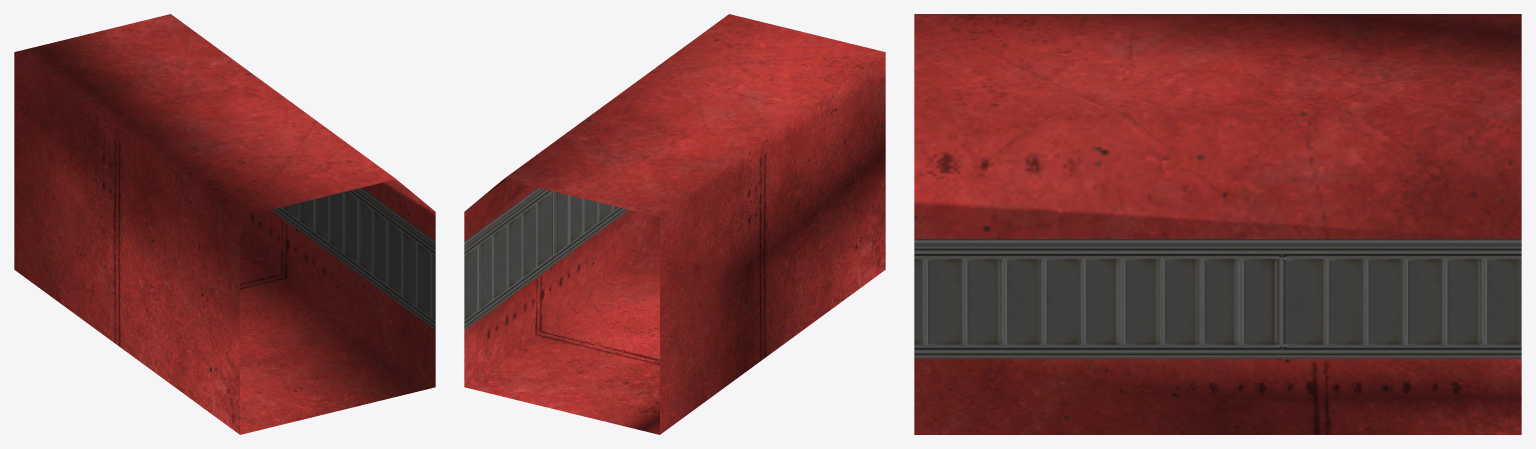
File: Ob_RedBarrierStraightShort_RC.fbx
3 renders of one model, left to right at view 1: azimuth 30°, elevation 25°; view 2: azimuth 150°, elevation 25°; view 3: azimuth 270°, elevation 25°, orthographic. The views are drawn at different scales.
Visible parts, largest first — view 1: Ob_RedBarrierStraightShort_RC; view 2: Ob_RedBarrierStraightShort_RC; view 3: Ob_RedBarrierStraightShort_RC.
Boxes of the visible parts, x1,y1,x2,y2 form: Ob_RedBarrierStraightShort_RC: [14, 14, 435, 434]; Ob_RedBarrierStraightShort_RC: [464, 14, 885, 434]; Ob_RedBarrierStraightShort_RC: [914, 14, 1521, 434].
Size of the model in its own units: 500 by 532 by 1000.
